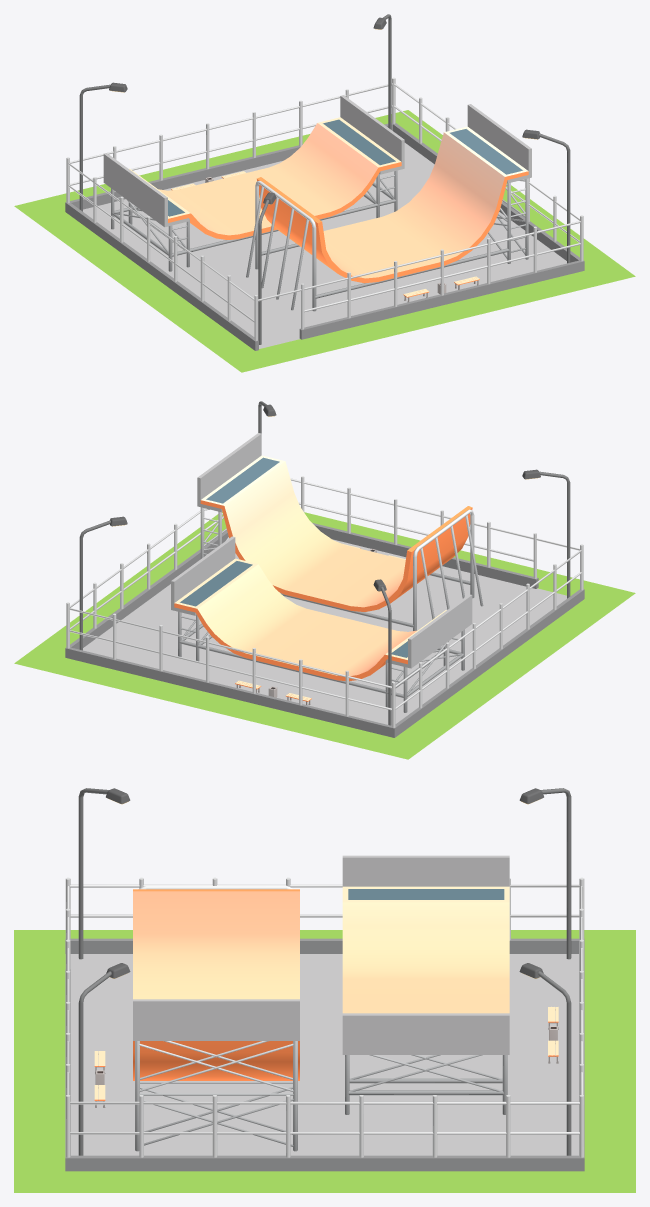
Rendered from Entertainment_SkatePark_02.glb.
3 views of the same model, one above another, from view 1: azimuth 30°, elevation 25°; view 2: azimuth 150°, elevation 25°; view 3: azimuth 270°, elevation 25° (orthographic). The views are drawn at different scales.
Parts seen in each view (by area): view 1: Entertainment_SkatePark_02; view 2: Entertainment_SkatePark_02; view 3: Entertainment_SkatePark_02.
Part boxes in pixels (bbox=[...]): Entertainment_SkatePark_02: bbox=[14, 14, 635, 372]; Entertainment_SkatePark_02: bbox=[14, 401, 635, 759]; Entertainment_SkatePark_02: bbox=[14, 788, 635, 1192].
Size of the model in its own units: 30 by 9.72 by 30.
Materials: 2 (2 with a texture image).
